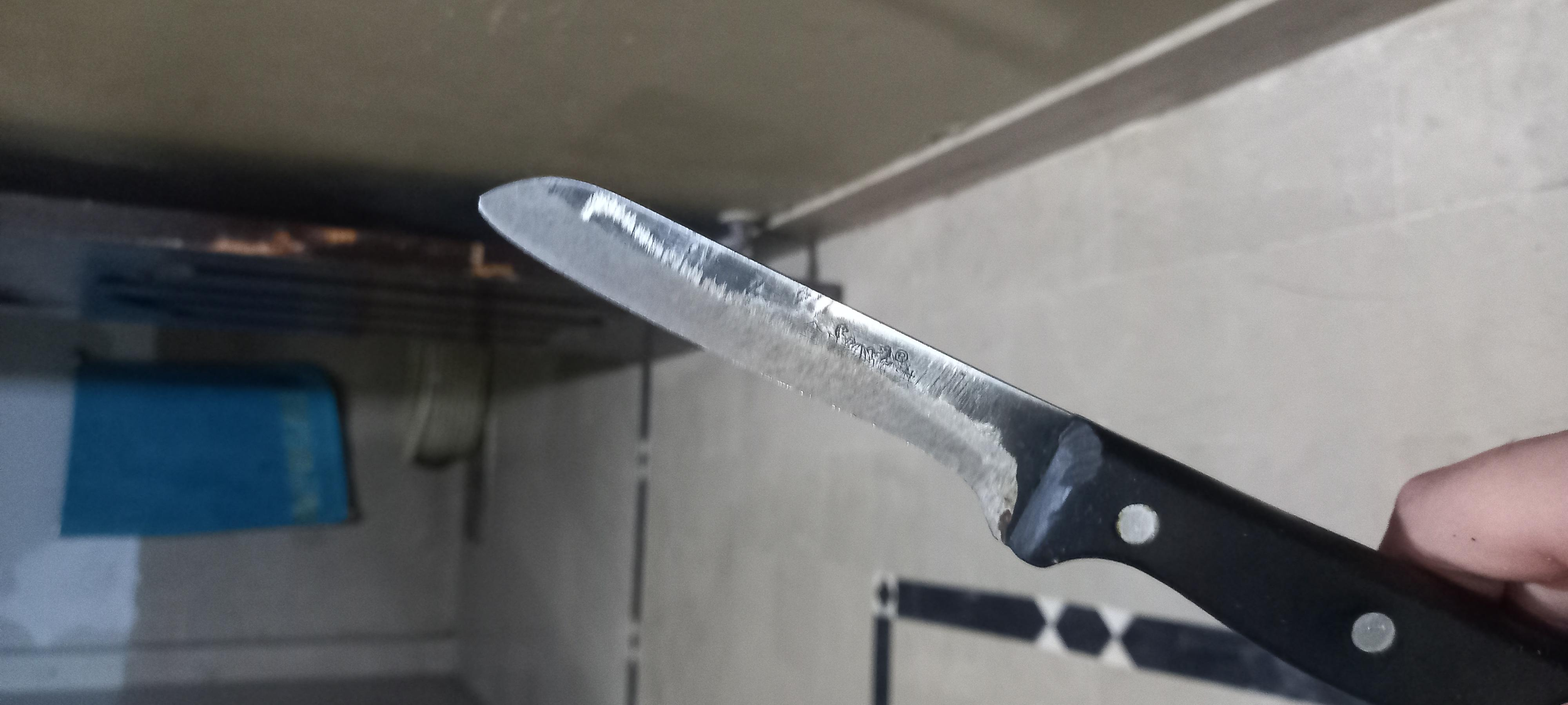knives: (1, 206, 1186, 690)
